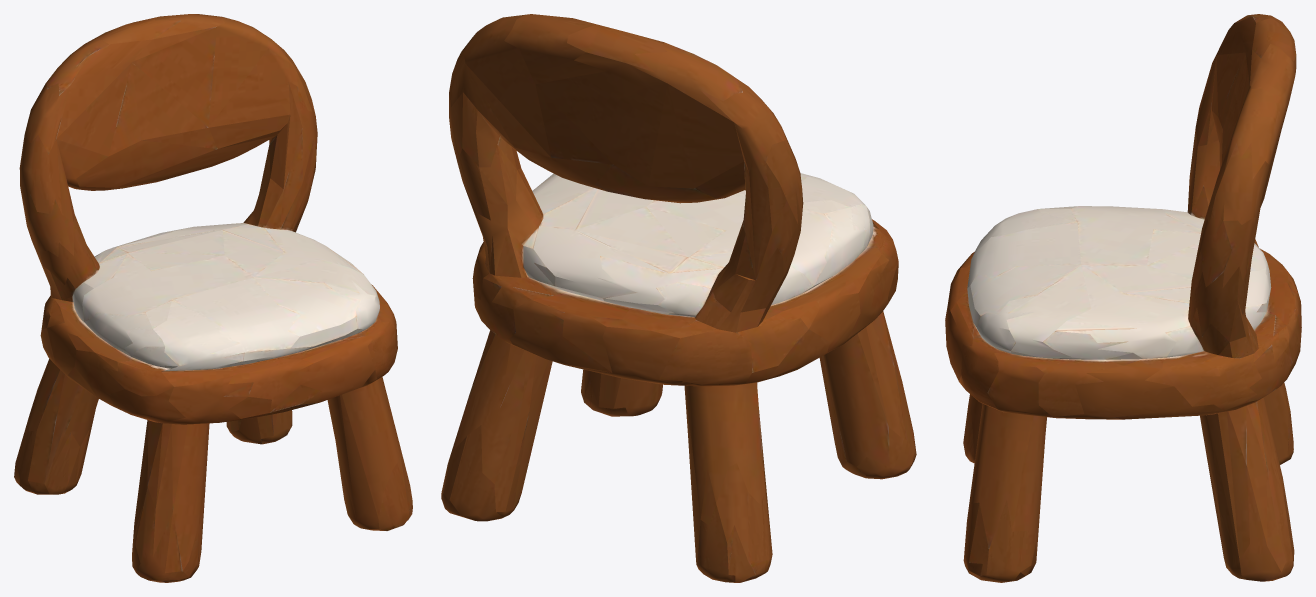
The model's file is chair-basic.glb.
3 renders of one model, left to right at view 1: azimuth 30°, elevation 25°; view 2: azimuth 150°, elevation 25°; view 3: azimuth 270°, elevation 25°, orthographic. The views are drawn at different scales.
Visible parts, largest first — view 1: chair-basic-fit; view 2: chair-basic-fit; view 3: chair-basic-fit.
Boxes of the visible parts, <box> form: chair-basic-fit: <box>14,14,412,582</box>; chair-basic-fit: <box>441,14,916,582</box>; chair-basic-fit: <box>945,14,1301,582</box>.
Size of the model in its own units: 0.6177 by 0.8841 by 0.6003.
1 material, 1 textured.
